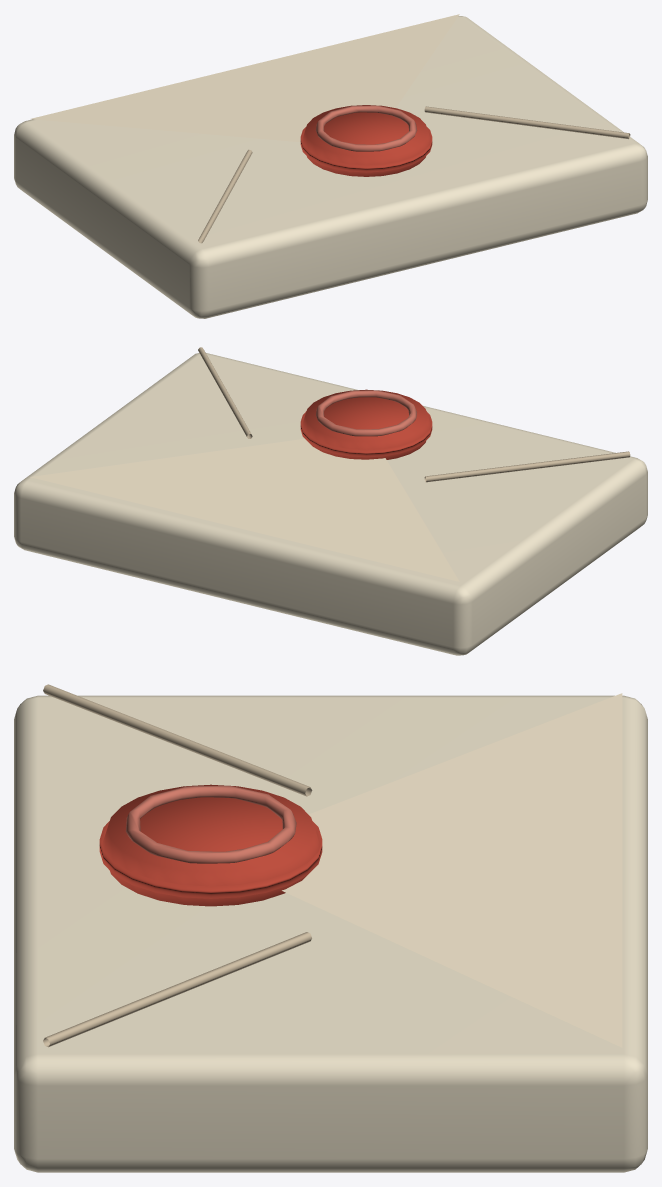
File: letter.glb
3 views of the same model, one above another, from view 1: azimuth 30°, elevation 25°; view 2: azimuth 150°, elevation 25°; view 3: azimuth 270°, elevation 25° (orthographic). The views are drawn at different scales.
Visible parts, largest first — view 1: Crafted_paper, Crafted_cream, Crafted_apple_red, Crafted_seam, Crafted_coral; view 2: Crafted_paper, Crafted_cream, Crafted_apple_red, Crafted_seam, Crafted_coral; view 3: Crafted_paper, Crafted_cream, Crafted_apple_red, Crafted_seam, Crafted_coral.
Part boxes in pixels (left/top/right/bottom): Crafted_paper: left=14, top=16, right=647, bottom=318; Crafted_cream: left=30, top=14, right=459, bottom=141; Crafted_apple_red: left=300, top=105, right=432, bottom=176; Crafted_seam: left=198, top=106, right=630, bottom=243; Crafted_coral: left=315, top=105, right=417, bottom=151; Crafted_paper: left=14, top=353, right=647, bottom=655; Crafted_cream: left=30, top=438, right=459, bottom=581; Crafted_apple_red: left=300, top=389, right=432, bottom=459; Crafted_seam: left=198, top=347, right=630, bottom=482; Crafted_coral: left=316, top=390, right=416, bottom=436; Crafted_paper: left=14, top=695, right=647, bottom=1172; Crafted_cream: left=282, top=693, right=622, bottom=1047; Crafted_apple_red: left=99, top=784, right=322, bottom=906; Crafted_seam: left=43, top=684, right=312, bottom=1047; Crafted_coral: left=125, top=785, right=296, bottom=863.
Size of the model in its own units: 0.52 by 0.111 by 0.37.
